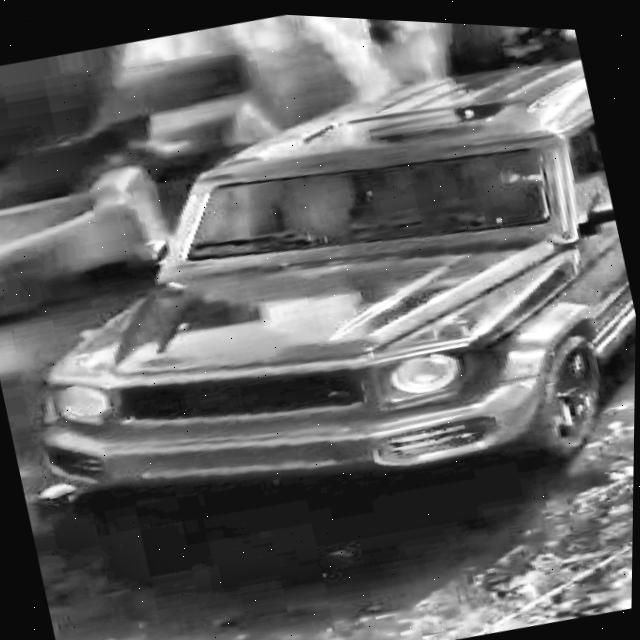light_vehicle: (0, 20, 640, 584)
